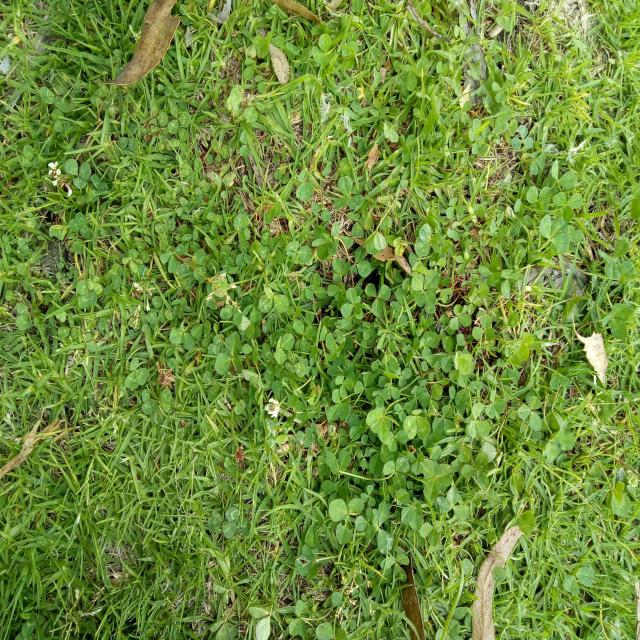Four Leaf Clover: (449, 304, 472, 330)
